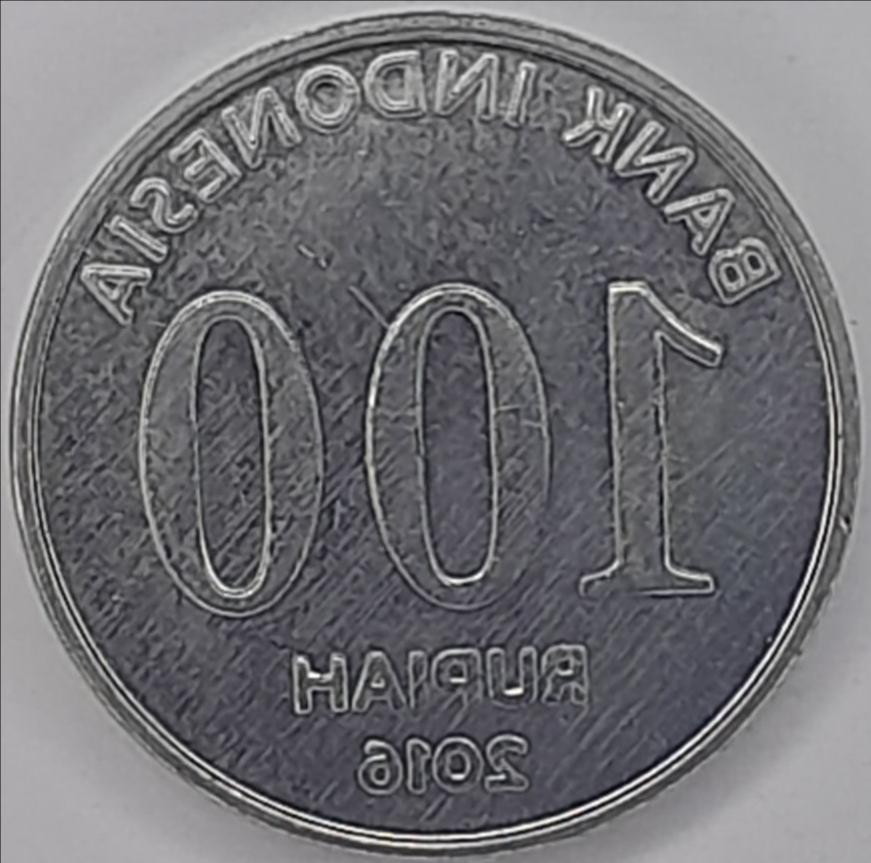coin_100_e2016: (4, 3, 868, 859)
